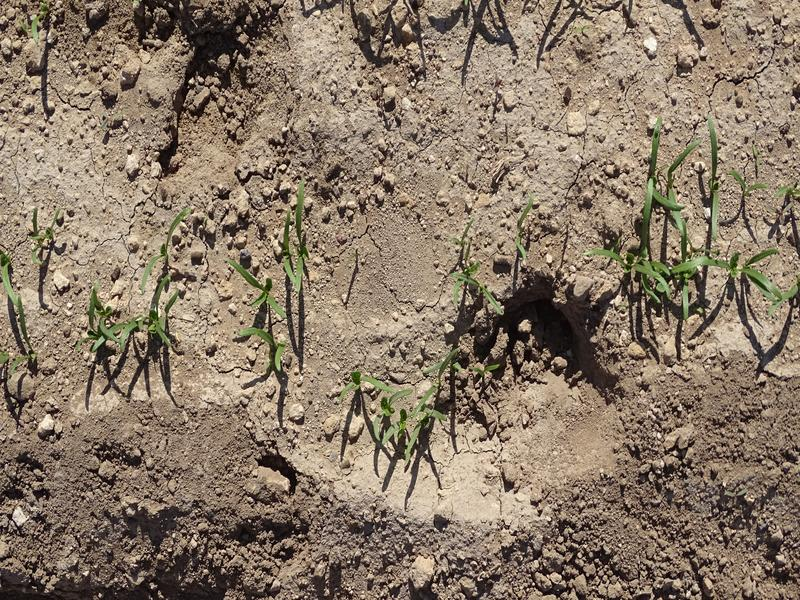Espinaca: (586, 123, 776, 331), (343, 347, 464, 464), (71, 285, 186, 353), (448, 239, 504, 319), (279, 181, 316, 284), (2, 267, 36, 373), (144, 210, 188, 281), (232, 260, 283, 313), (238, 323, 289, 372), (24, 214, 60, 258), (511, 199, 531, 263)
